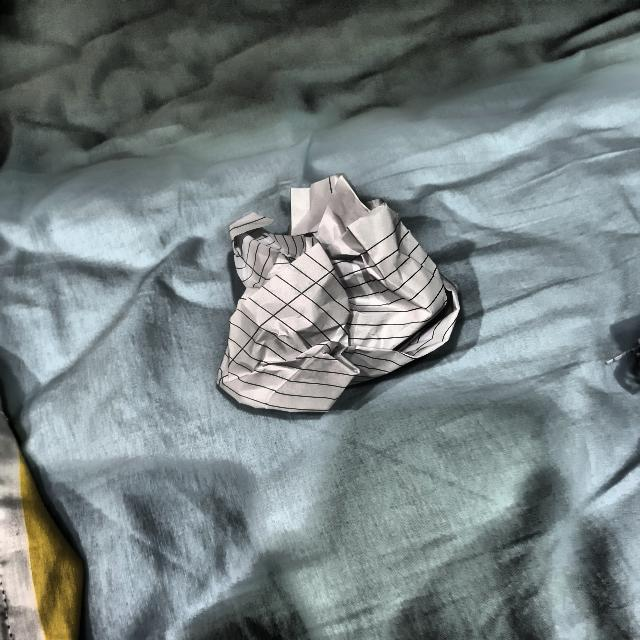Paper: (225, 172, 460, 415)
